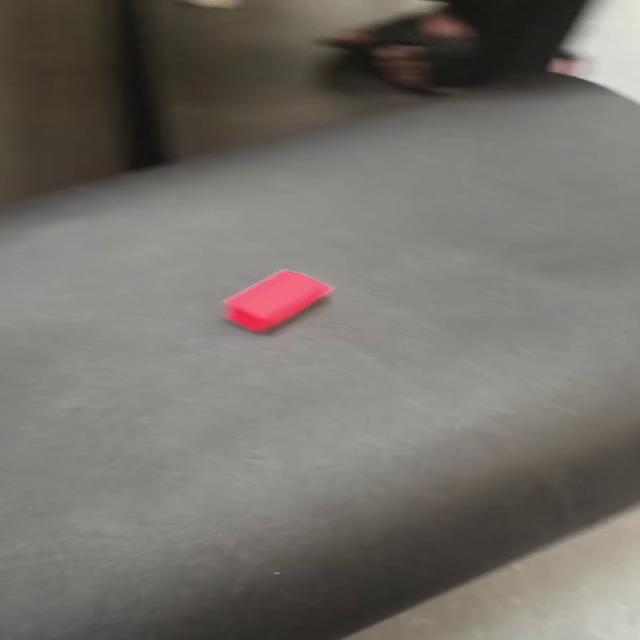red block: (220, 268, 333, 333)
